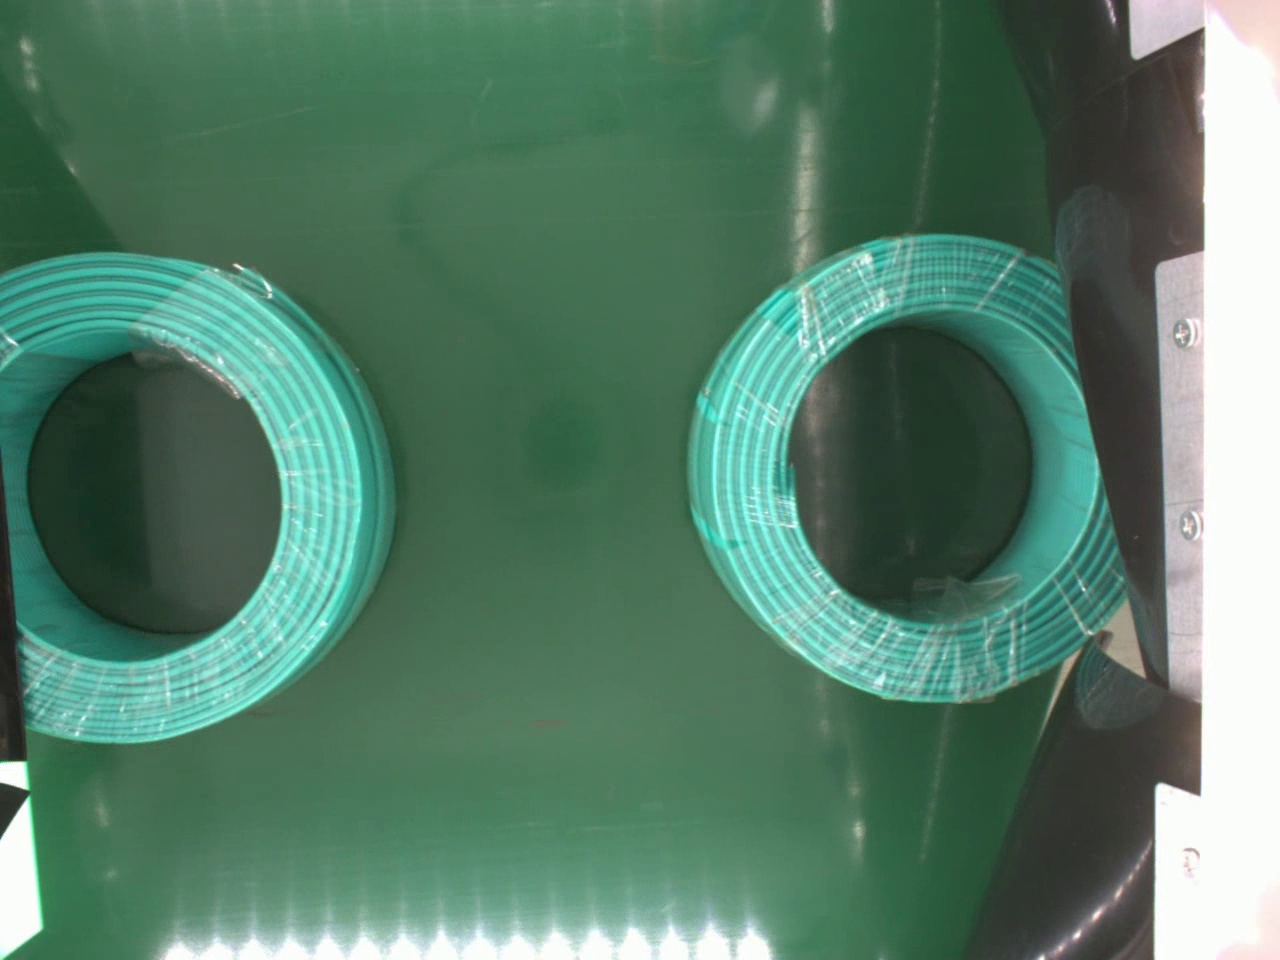green: (680, 229, 1128, 703), (0, 250, 404, 749)
